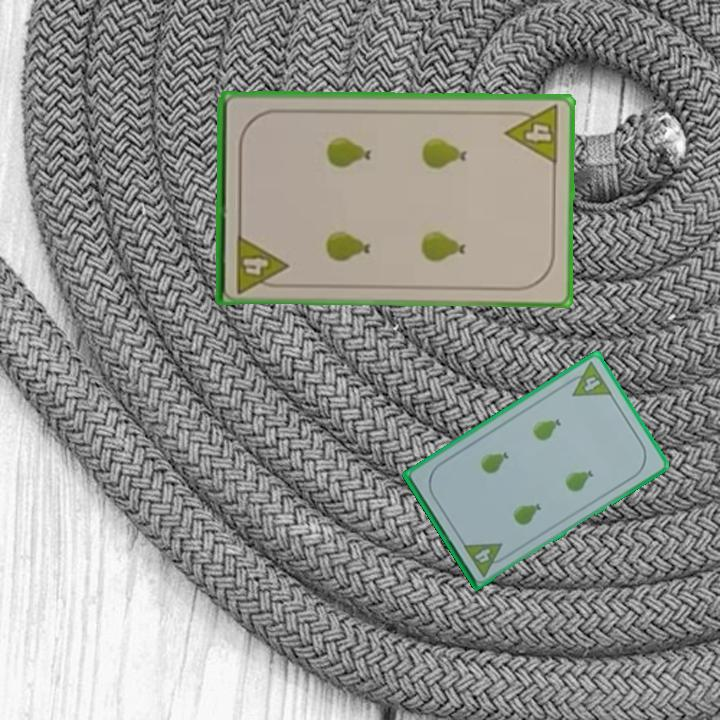4p: (502, 102, 562, 167), (232, 231, 290, 296), (562, 358, 615, 399), (460, 539, 511, 580)
